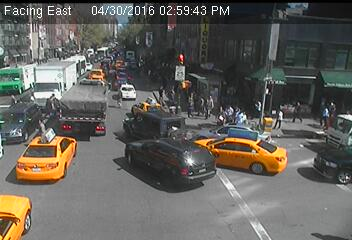neg: (272, 171, 305, 216), (142, 150, 174, 193), (158, 2, 189, 43), (46, 154, 75, 193), (309, 139, 337, 177), (197, 154, 223, 188), (145, 61, 170, 94), (9, 183, 33, 216), (269, 50, 289, 77), (95, 66, 113, 90), (31, 2, 49, 25), (294, 11, 308, 30), (236, 12, 249, 29), (124, 6, 136, 22), (240, 56, 252, 71), (312, 67, 321, 79)
pos: (288, 95, 312, 127), (42, 93, 64, 122), (199, 93, 219, 120), (323, 96, 343, 123), (272, 108, 292, 134), (2, 90, 21, 115), (183, 91, 201, 116), (32, 117, 49, 141), (250, 98, 267, 120), (113, 84, 130, 106), (194, 95, 210, 117), (233, 110, 249, 132), (319, 105, 334, 124), (223, 104, 236, 121)
